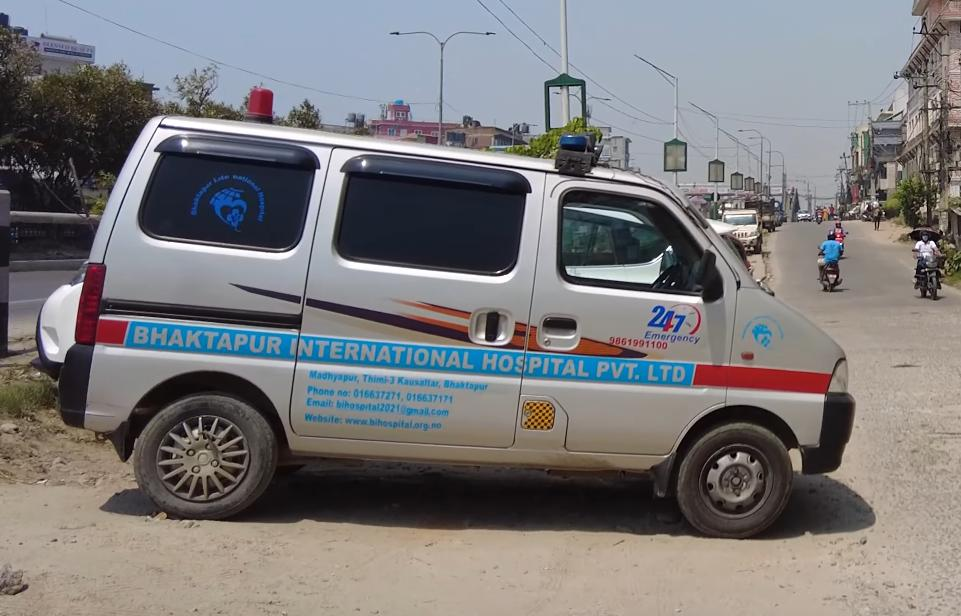van: (34, 88, 868, 545)
